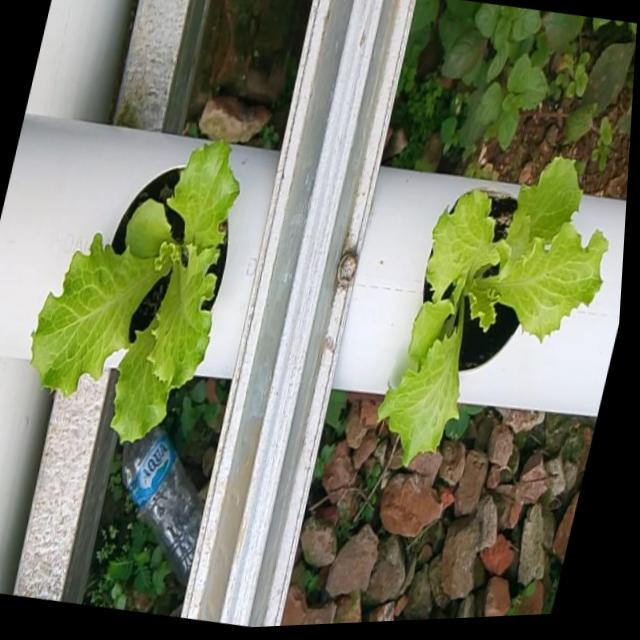Baby: (380, 151, 613, 461), (33, 132, 242, 437)
